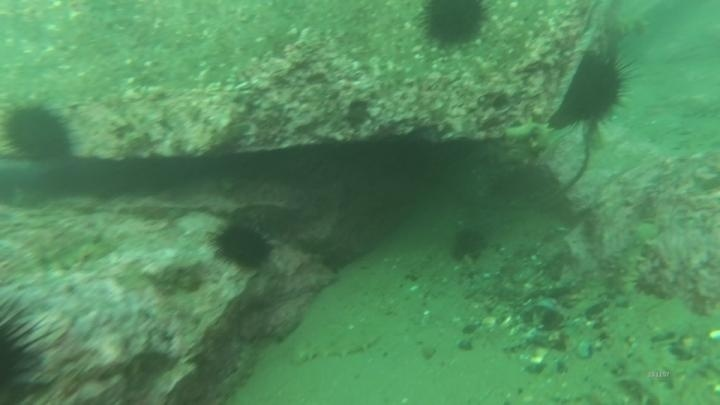echinus: (0, 290, 68, 405), (554, 46, 636, 132), (1, 98, 77, 167), (417, 1, 490, 51), (210, 219, 276, 273), (447, 224, 490, 264)
holothurian: (605, 220, 661, 301), (286, 322, 384, 366), (38, 231, 118, 275), (498, 117, 562, 170), (214, 340, 261, 404)
